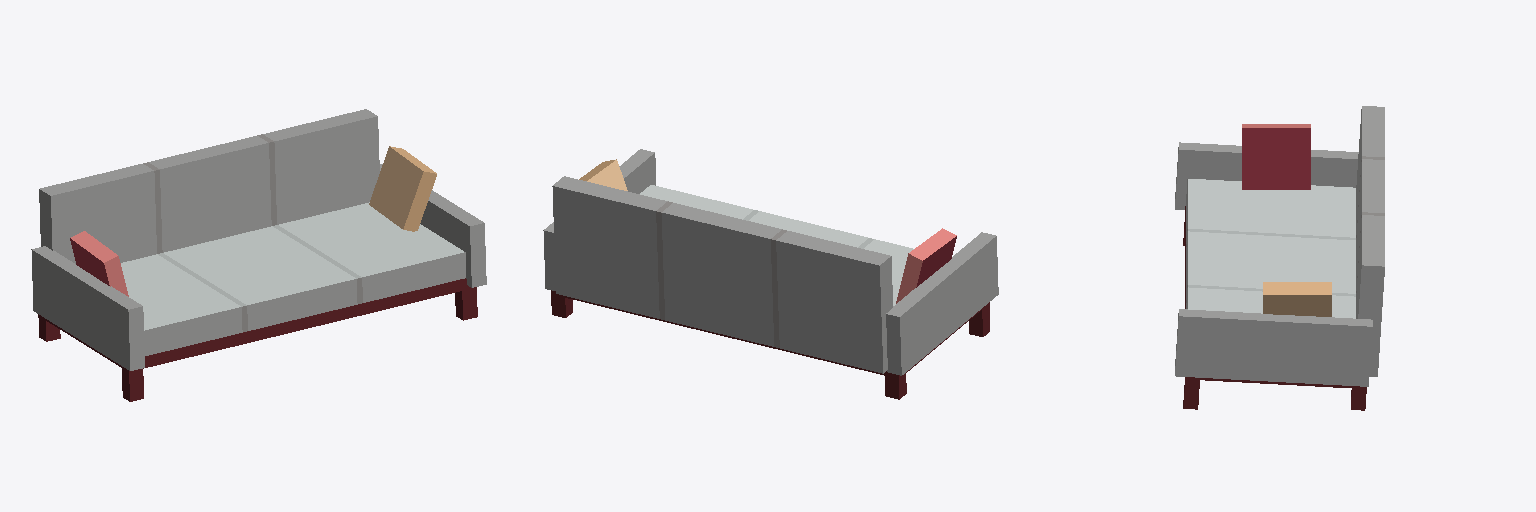
The picture shows the model from 3 angles: view 1: azimuth 30°, elevation 25°; view 2: azimuth 150°, elevation 25°; view 3: azimuth 270°, elevation 25°; orthographic projection.
Parts seen in each view (by area): view 1: pasted__pCube12; view 2: pasted__pCube12; view 3: pasted__pCube12.
Boxes of the visible parts, x1=… form: pasted__pCube12: x1=31, y1=109, x2=486, y2=401; pasted__pCube12: x1=543, y1=149, x2=998, y2=399; pasted__pCube12: x1=1175, y1=106, x2=1384, y2=410.
Size of the model in its own units: 3.73 by 1.4 by 1.91.
9 materials, 9 textured.